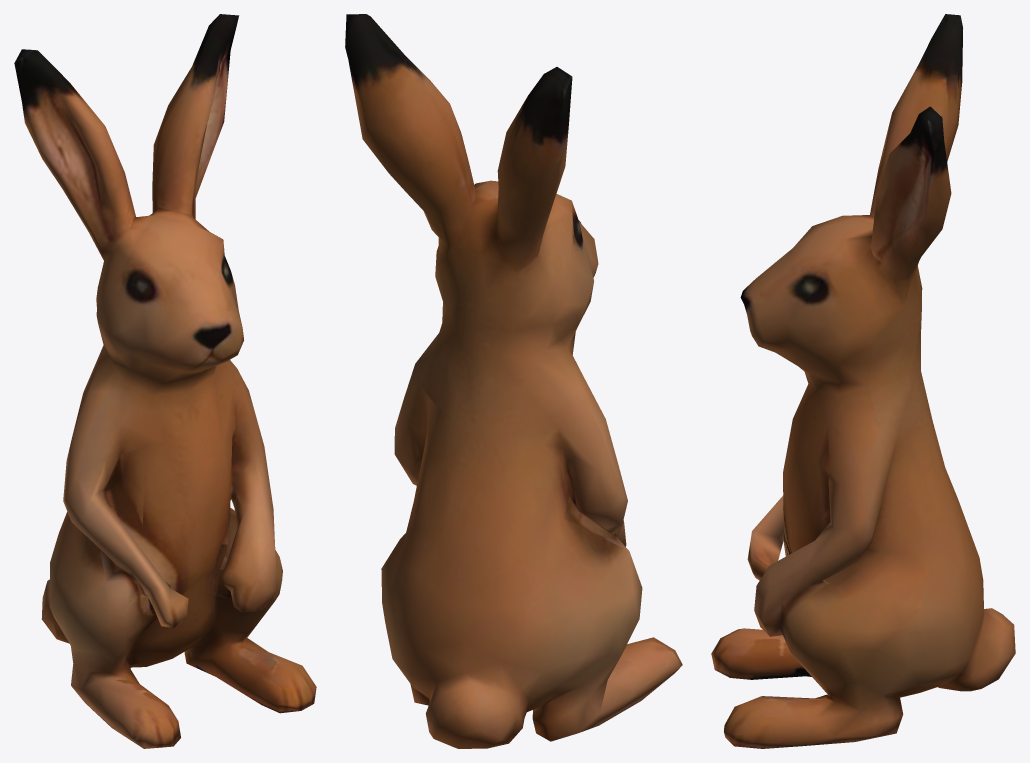
File: mob_brown_hare.glb
The picture shows the model from 3 angles, left to right: view 1: azimuth 30°, elevation 25°; view 2: azimuth 150°, elevation 25°; view 3: azimuth 270°, elevation 25°; orthographic projection. The views are drawn at different scales.
Parts seen in each view (by area): view 1: geometry_0; view 2: geometry_0; view 3: geometry_0.
Part boxes in pixels (bbox=[...]): geometry_0: bbox=[14, 14, 316, 748]; geometry_0: bbox=[345, 14, 682, 748]; geometry_0: bbox=[711, 14, 1015, 748].
Bounding box in the file's own units: 0.6725 × 1.9 × 0.8156.
Materials: 1 (1 with a texture image).
